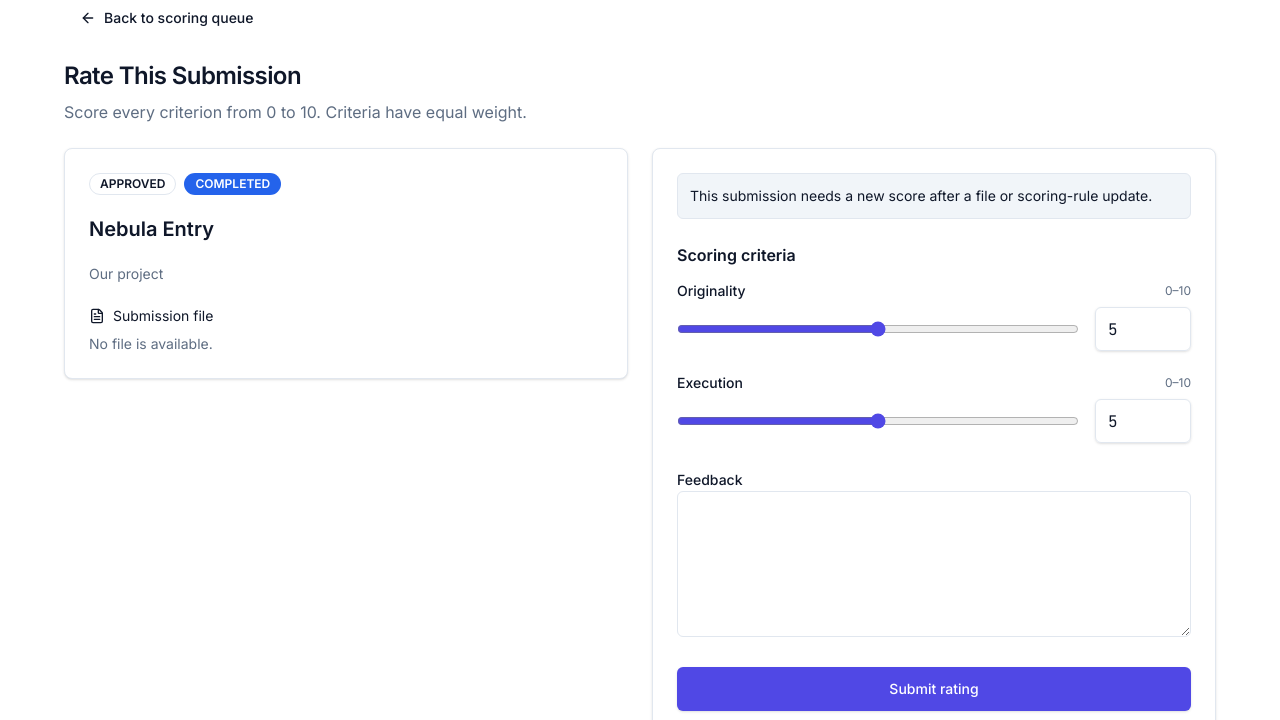
Test case: starts a fresh 0–10 score for an obsolete file even through the revision link
Expected: the text "This submission needs a new score after a file or scoring-rule update." is shown, [677,173,1191,219]
Expected: the number field labelled "Originality" holds "5", [1095,307,1191,351]
Click the button "Submit rating" at {"x": 934, "y": 689}, box [677,667,1191,711]
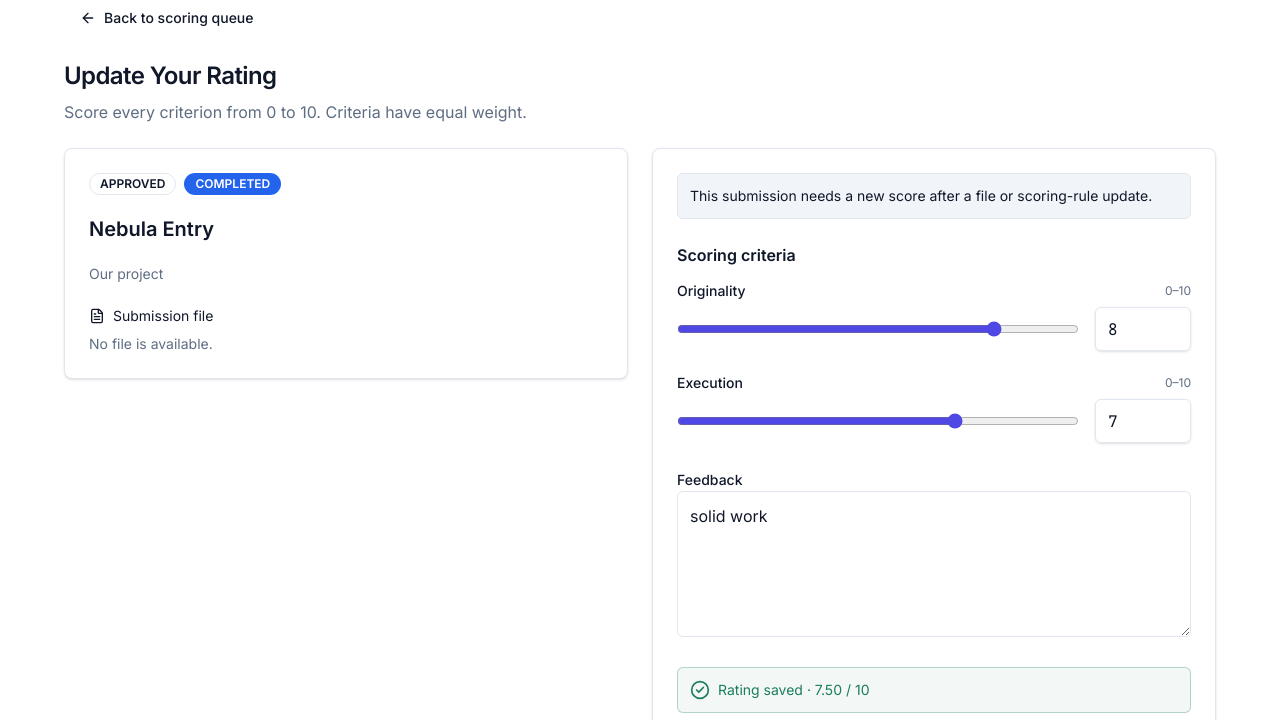
Now the text "Rating saved · 7.50 / 10" is shown, box [677,667,1191,713]
